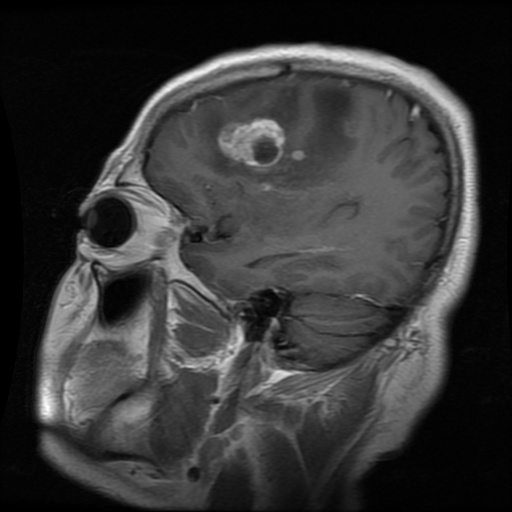glioma: (205, 80, 355, 186)
